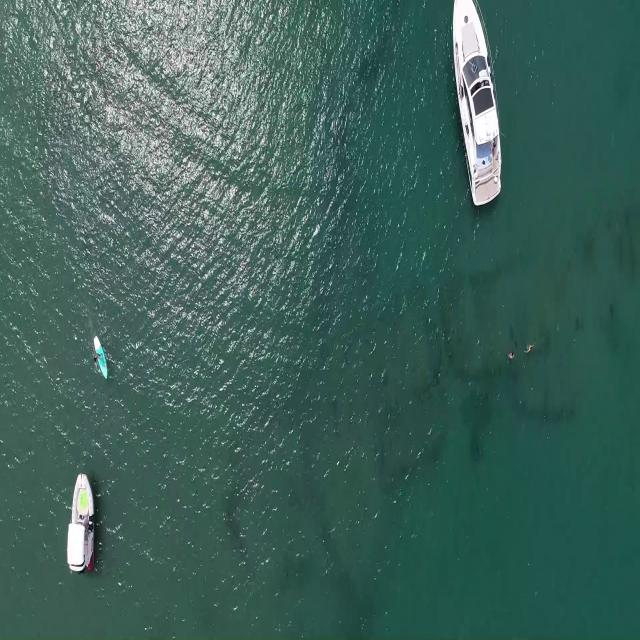boat: (450, 3, 505, 207), (65, 468, 97, 580)
person: (524, 341, 538, 355), (91, 349, 103, 364), (508, 352, 516, 362)
surfboard: (93, 334, 108, 384)
